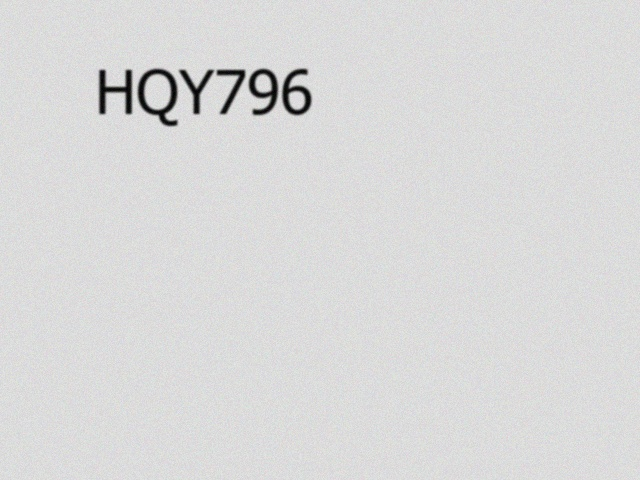OCR_AREA: (91, 65, 317, 130)
